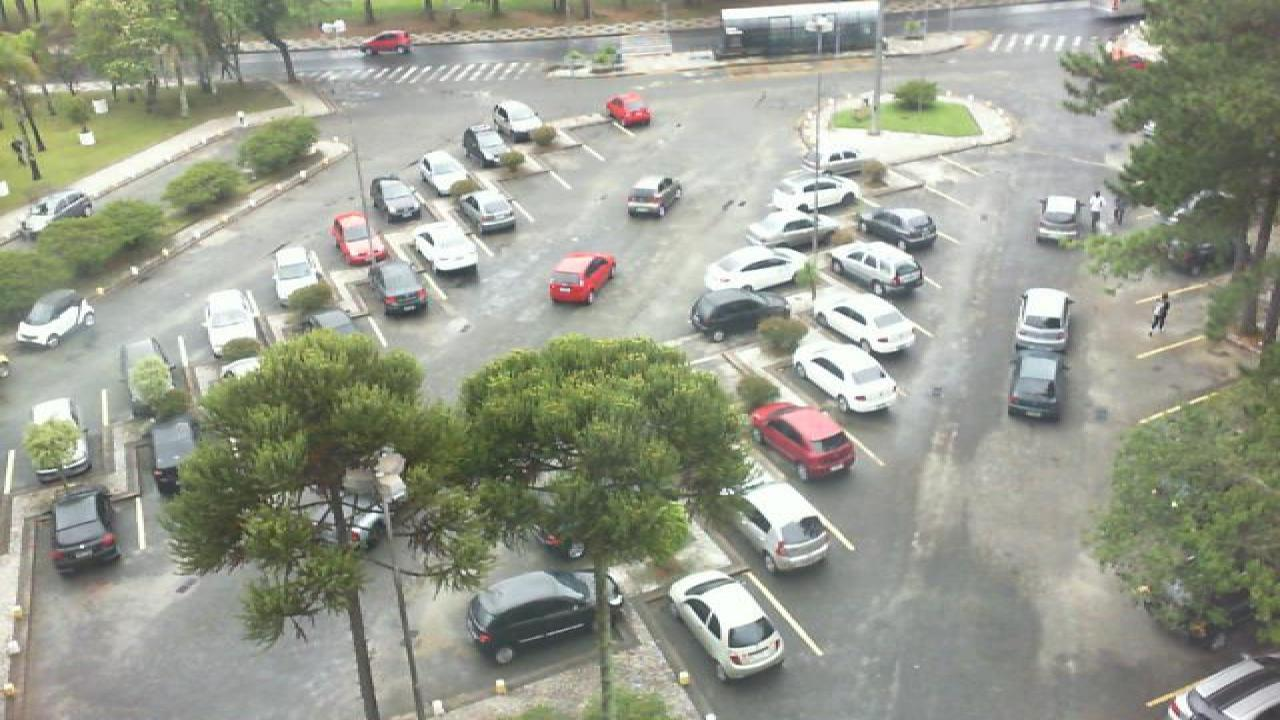Car: (460, 568, 626, 665), (668, 569, 788, 683), (720, 460, 836, 574), (748, 400, 858, 480), (790, 340, 902, 415), (1160, 652, 1280, 720), (808, 287, 918, 355), (22, 394, 98, 484), (46, 490, 124, 572), (822, 240, 926, 294), (686, 286, 786, 342), (702, 246, 808, 292), (1004, 349, 1068, 422), (402, 218, 480, 277), (148, 416, 206, 492), (1014, 287, 1078, 355), (202, 287, 260, 362), (746, 209, 850, 249), (858, 206, 938, 253), (366, 261, 428, 316), (328, 210, 386, 268), (796, 147, 892, 181), (772, 172, 862, 208), (270, 244, 322, 302), (460, 187, 518, 235), (416, 148, 472, 196), (370, 174, 424, 223), (1036, 195, 1084, 250), (460, 124, 516, 168), (490, 100, 546, 144)
